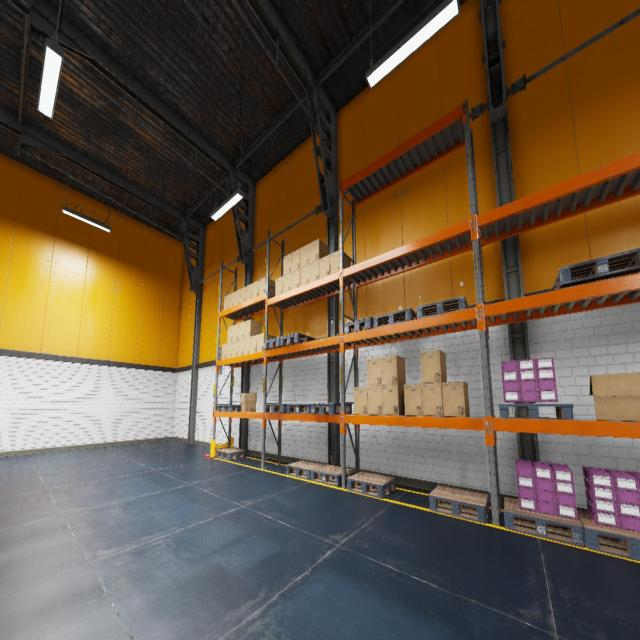box: (590, 372, 640, 422), (442, 381, 469, 417), (421, 350, 446, 382), (382, 384, 405, 416), (381, 355, 405, 385), (422, 383, 443, 416), (330, 250, 351, 280), (404, 383, 423, 416), (309, 238, 329, 263), (367, 386, 383, 415), (367, 357, 382, 386), (353, 386, 368, 414), (257, 333, 275, 352), (244, 319, 262, 338), (259, 277, 275, 296), (240, 393, 256, 411), (319, 254, 330, 278), (300, 244, 310, 267), (309, 260, 319, 282), (291, 248, 300, 272), (300, 264, 309, 286), (291, 269, 300, 289), (284, 253, 292, 275), (283, 272, 291, 293), (275, 276, 283, 296), (243, 337, 250, 355), (237, 338, 244, 356), (252, 280, 259, 298), (238, 321, 244, 340), (250, 335, 256, 353), (232, 324, 238, 342), (232, 340, 238, 357), (240, 286, 246, 303), (226, 342, 232, 358), (221, 343, 227, 359), (227, 326, 233, 342), (246, 284, 252, 300), (234, 289, 240, 305), (229, 292, 234, 308), (224, 294, 229, 310)
pallets: (504, 497, 585, 548), (553, 248, 640, 290), (577, 510, 640, 561), (429, 486, 489, 524), (347, 472, 396, 498), (416, 296, 468, 319), (498, 404, 574, 419), (311, 464, 353, 486), (373, 308, 417, 328), (286, 460, 326, 480), (344, 316, 374, 334), (280, 333, 317, 346), (310, 403, 352, 414), (264, 337, 296, 350), (216, 448, 246, 460), (287, 404, 319, 413), (264, 403, 293, 412), (217, 404, 241, 411)
